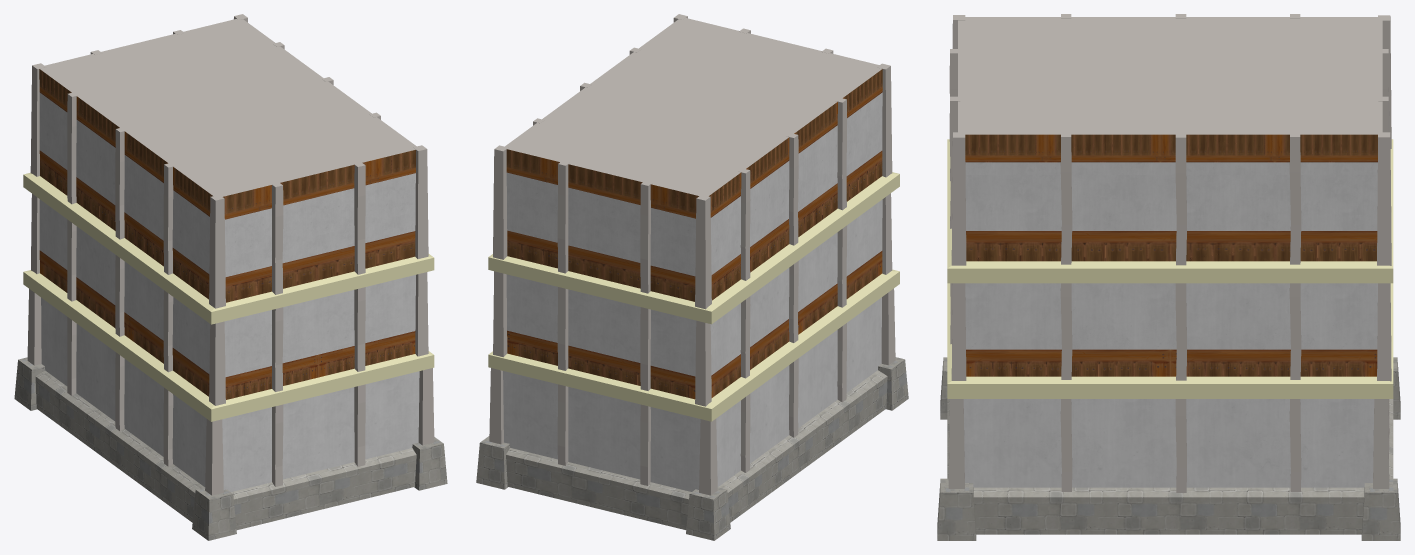
Rendered from Building_C_02.fbx.
3 views of the same model, side by side, from view 1: azimuth 30°, elevation 25°; view 2: azimuth 150°, elevation 25°; view 3: azimuth 270°, elevation 25° (orthographic). The views are drawn at different scales.
Parts seen in each view (by area): view 1: Building_C_02; view 2: Building_C_02; view 3: Building_C_02.
Part boxes in pixels (box(x1,y1,x2,y2)): Building_C_02: box(14, 14, 447, 540); Building_C_02: box(476, 14, 908, 540); Building_C_02: box(937, 14, 1400, 540).
Size of the model in its own units: 1410 by 1889 by 2005.
